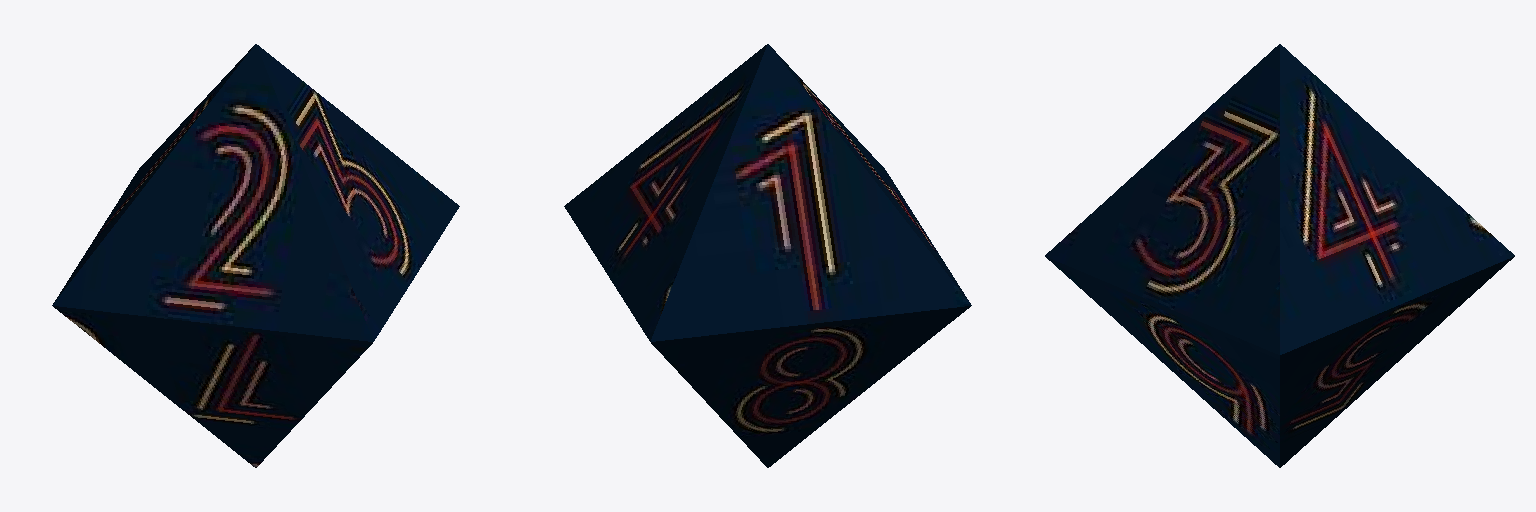
3 renders of one model, left to right at view 1: azimuth 30°, elevation 25°; view 2: azimuth 150°, elevation 25°; view 3: azimuth 270°, elevation 25°, orthographic.
Visible parts, largest first — view 1: Pyramid001, Pyramid002; view 2: Pyramid001, Pyramid002; view 3: Pyramid001, Pyramid002.
Boxes of the visible parts, <box> form: Pyramid001: <box>52,44,459,341</box>; Pyramid002: <box>53,306,372,467</box>; Pyramid001: <box>564,44,971,341</box>; Pyramid002: <box>651,306,970,467</box>; Pyramid001: <box>1045,44,1514,354</box>; Pyramid002: <box>1045,256,1514,467</box>.
Bounding box in the file's own units: 8.49 × 8.45 × 8.49.
2 materials, 1 textured.